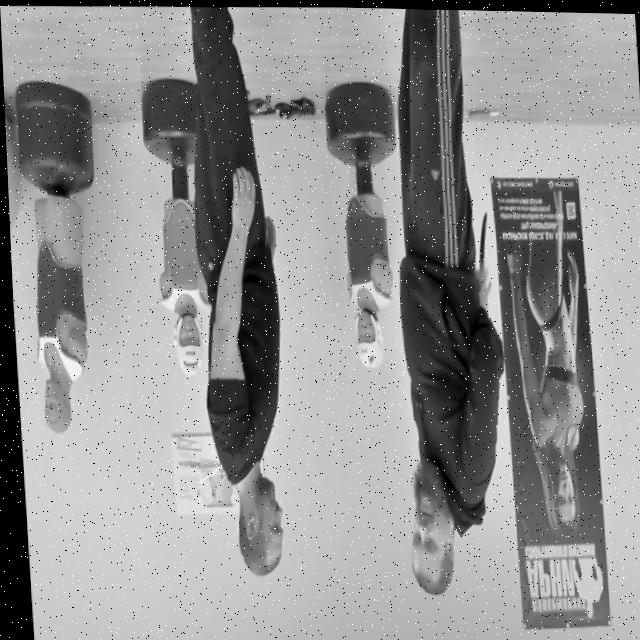knife: (474, 208, 488, 268)
